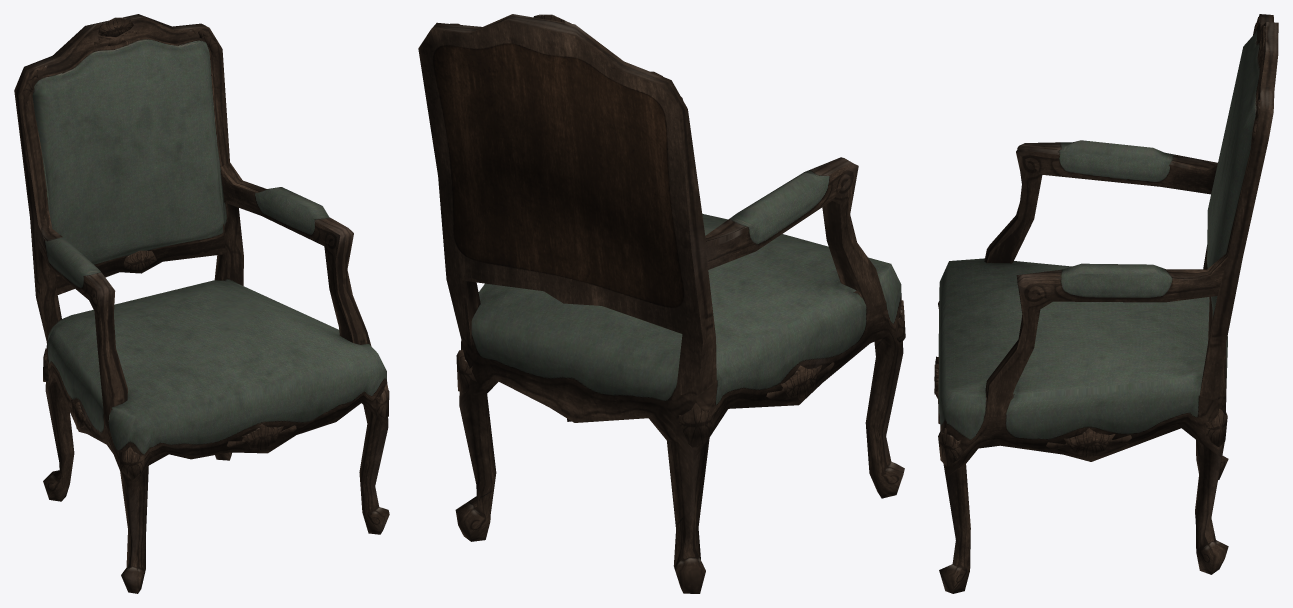
The model's file is GreenChair_01_1k_LOD2.fbx.
3 renders of one model, left to right at view 1: azimuth 30°, elevation 25°; view 2: azimuth 150°, elevation 25°; view 3: azimuth 270°, elevation 25°, orthographic. The views are drawn at different scales.
Visible parts, largest first — view 1: GreenChair_01; view 2: GreenChair_01; view 3: GreenChair_01.
Part boxes in pixels (x1=…): GreenChair_01: x1=14, y1=14, x2=389, y2=593; GreenChair_01: x1=418, y1=14, x2=905, y2=593; GreenChair_01: x1=934, y1=14, x2=1278, y2=593.
Size of the model in its own units: 67.27 by 106 by 66.45.
